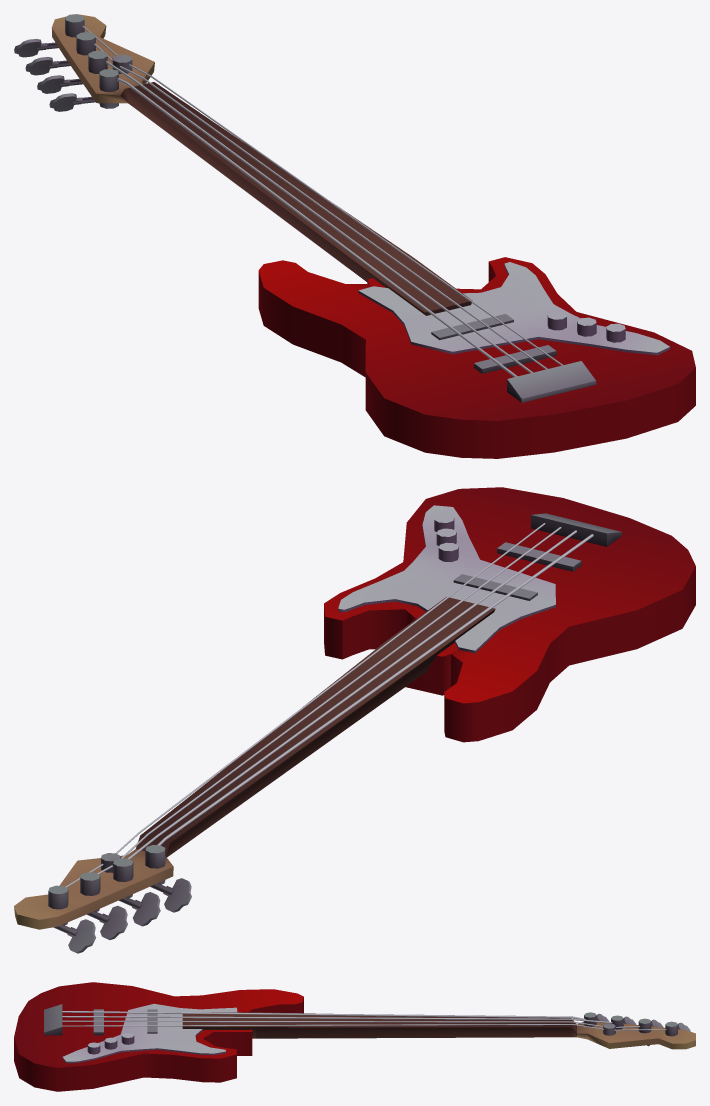
The model's file is human-music-electric-guitar_v1.fbx.
3 renders of one model, top to bottom at view 1: azimuth 30°, elevation 25°; view 2: azimuth 150°, elevation 25°; view 3: azimuth 270°, elevation 25°, orthographic. The views are drawn at different scales.
Parts seen in each view (by area): view 1: Electric Guitar_v1; view 2: Electric Guitar_v1; view 3: Electric Guitar_v1.
Boxes of the visible parts, x1,y1,x2,y2 form: Electric Guitar_v1: (14,14,695,458); Electric Guitar_v1: (14,487,695,953); Electric Guitar_v1: (14,982,695,1091).
Size of the model in its own units: 0.2977 by 0.0522 by 1.
